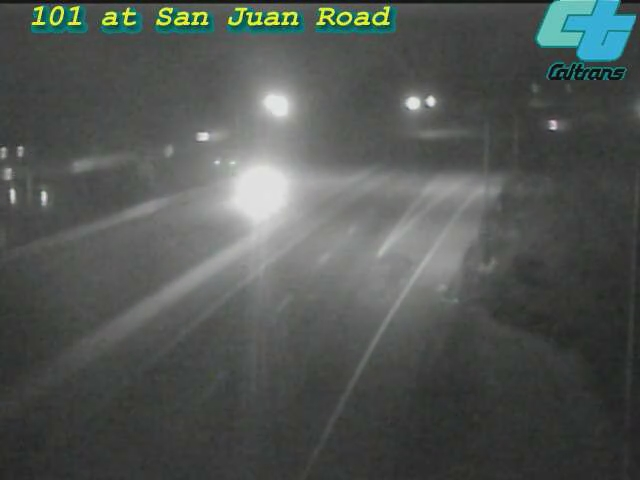vehicle: (216, 152, 296, 232)
